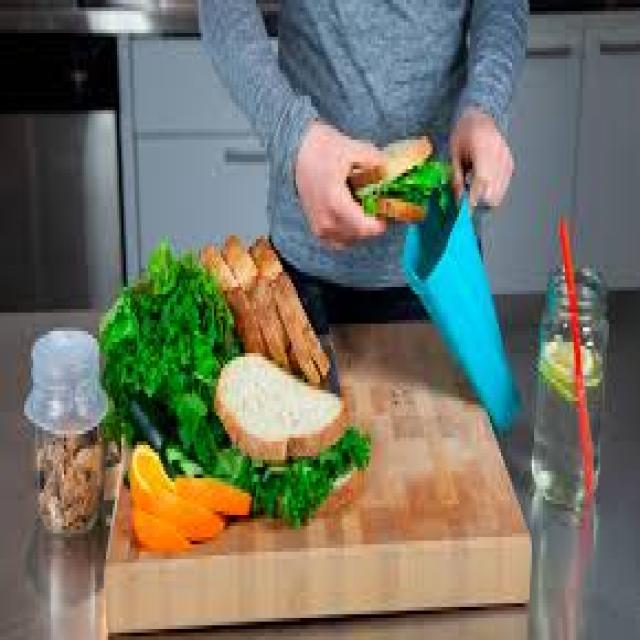Wet: (18, 206, 354, 594), (199, 321, 353, 486), (335, 130, 498, 240)
